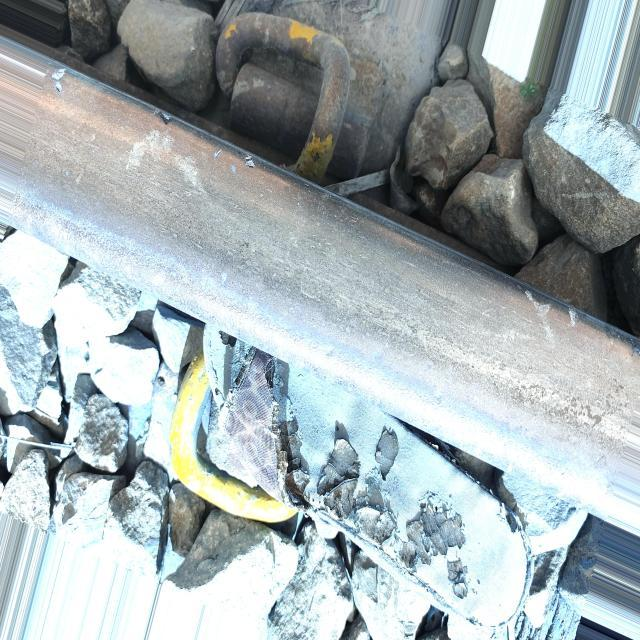Good Fasteners: (134, 314, 335, 589), (194, 15, 414, 189)
